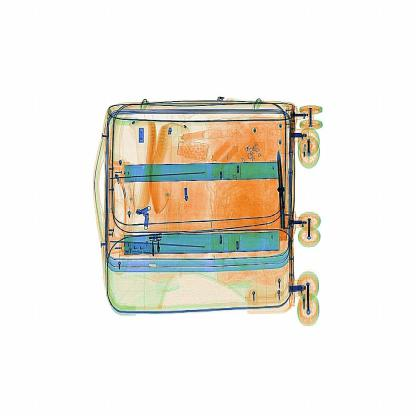gun: (274, 143, 297, 252)
